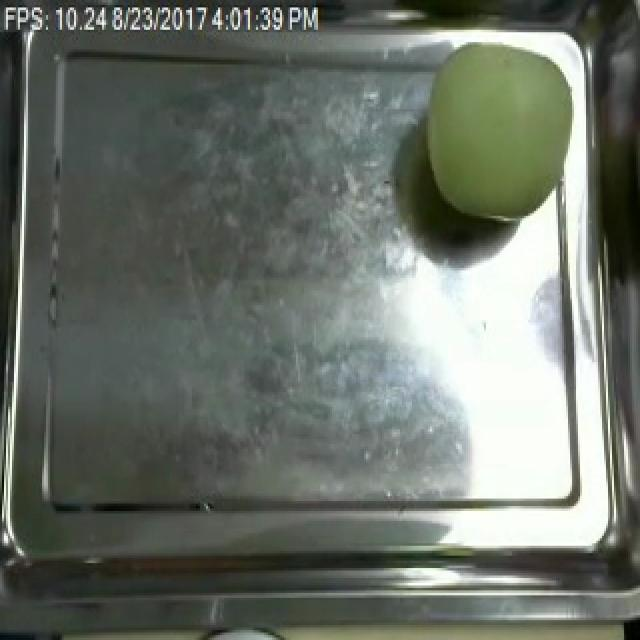50-_ripeness: (419, 34, 581, 239)
